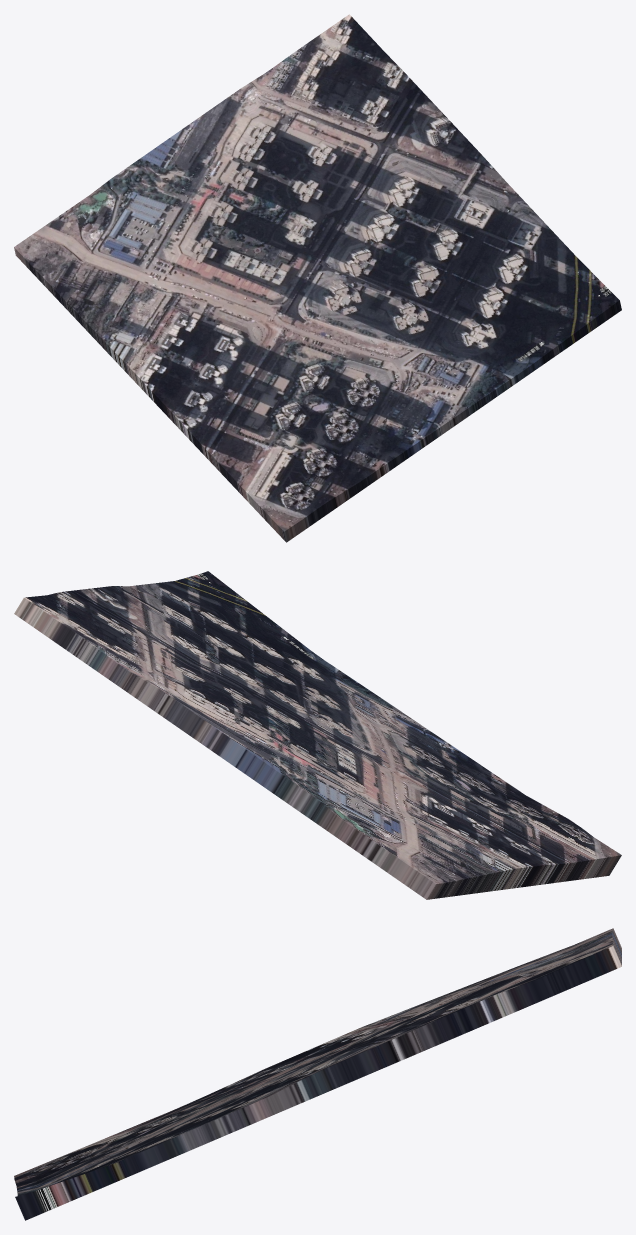
The picture shows the model from 3 angles, top to bottom: view 1: azimuth 30°, elevation 25°; view 2: azimuth 150°, elevation 25°; view 3: azimuth 270°, elevation 25°; orthographic projection. The views are drawn at different scales.
Parts seen in each view (by area): view 1: 0_20_6; view 2: 0_20_6; view 3: 0_20_6.
Boxes of the visible parts, x1,y1,x2,y2 form: 0_20_6: (14,14,621,542); 0_20_6: (14,571,621,899); 0_20_6: (14,928,621,1220).
Bounding box in the file's own units: 599 × 445 × 552.
Materials: 1 (1 with a texture image).
